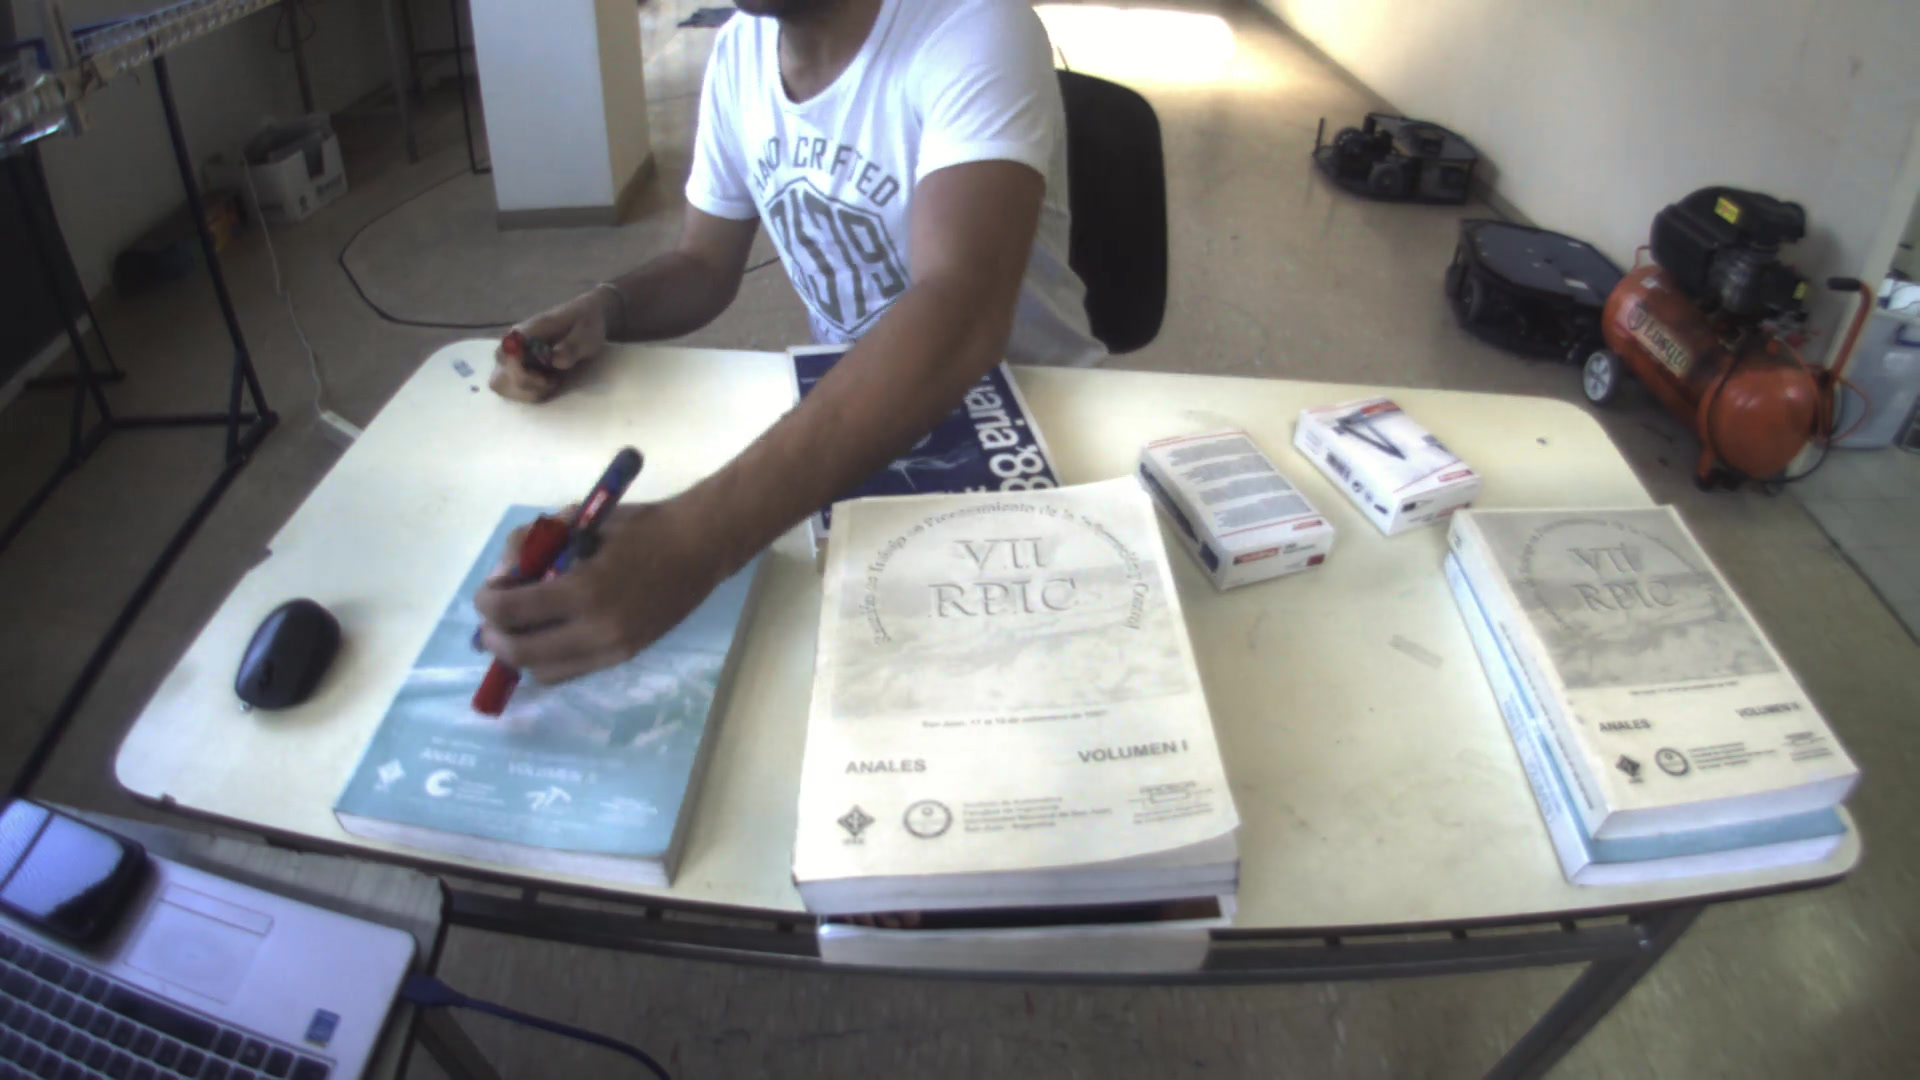hand: (468, 488, 682, 696), (480, 284, 629, 407)
